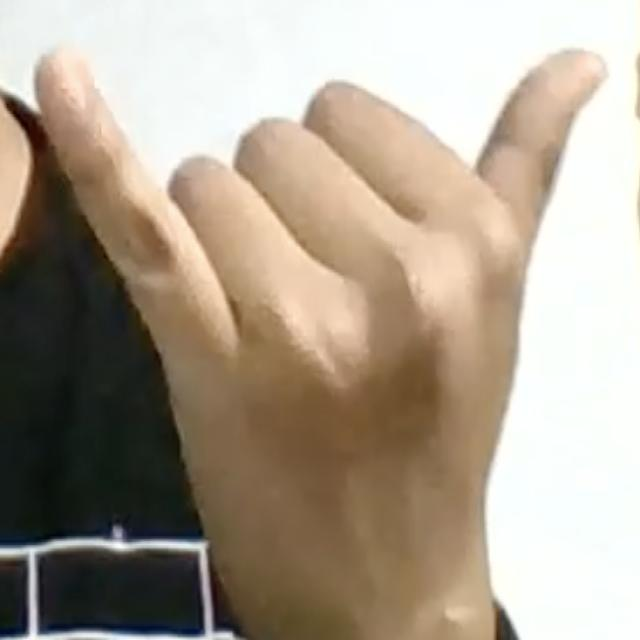Y: (22, 33, 616, 588)
